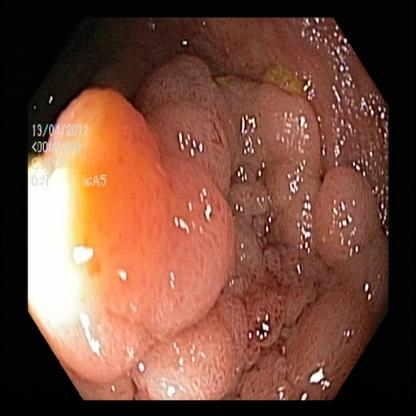Labels: (30, 108, 114, 198)
Polyps: (156, 72, 309, 165), (181, 164, 248, 314), (141, 325, 248, 396), (315, 167, 380, 268)
